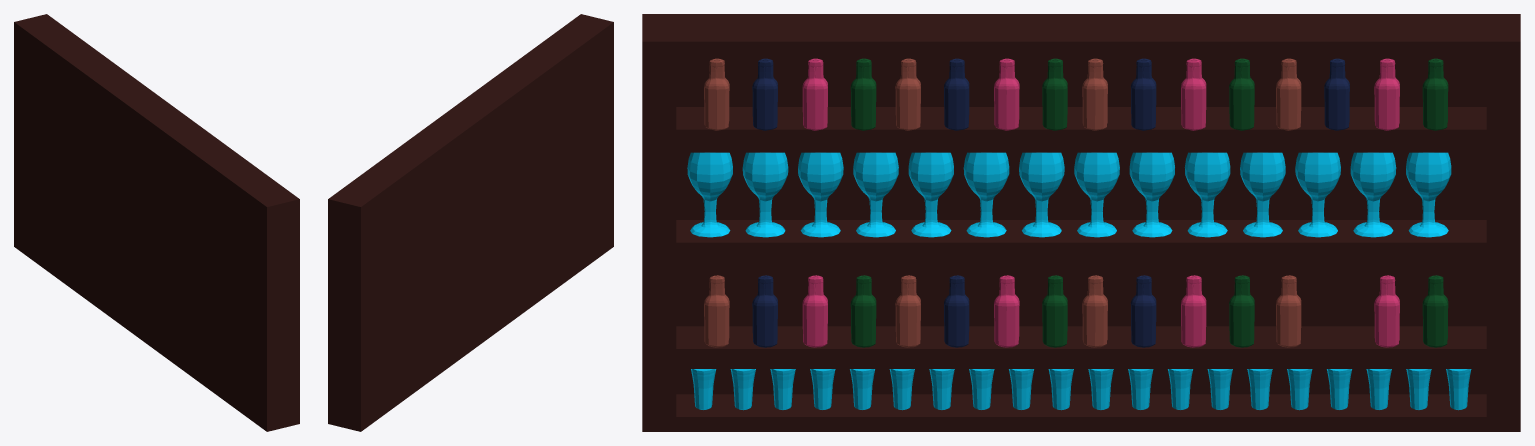
The model's file is Estanteria.fbx.
The picture shows the model from 3 angles, left to right: view 1: azimuth 30°, elevation 25°; view 2: azimuth 150°, elevation 25°; view 3: azimuth 270°, elevation 25°; orthographic projection. The views are drawn at different scales.
Visible parts, largest first — view 1: Cube; view 2: Cube; view 3: Cube.
Boxes of the visible parts, x1=… form: Cube: x1=14, y1=14, x2=299, y2=431; Cube: x1=328, y1=14, x2=613, y2=431; Cube: x1=642, y1=14, x2=1520, y2=431.
Size of the model in its own units: 97.69 by 623 by 1271.
